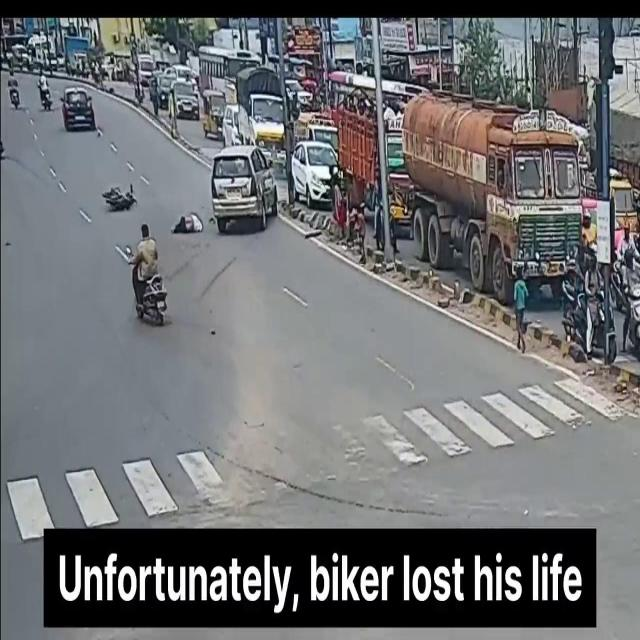accident: (169, 141, 283, 246), (99, 170, 140, 218)
non_accident: (397, 85, 640, 363), (2, 10, 206, 119), (289, 61, 397, 250), (206, 55, 286, 181)
